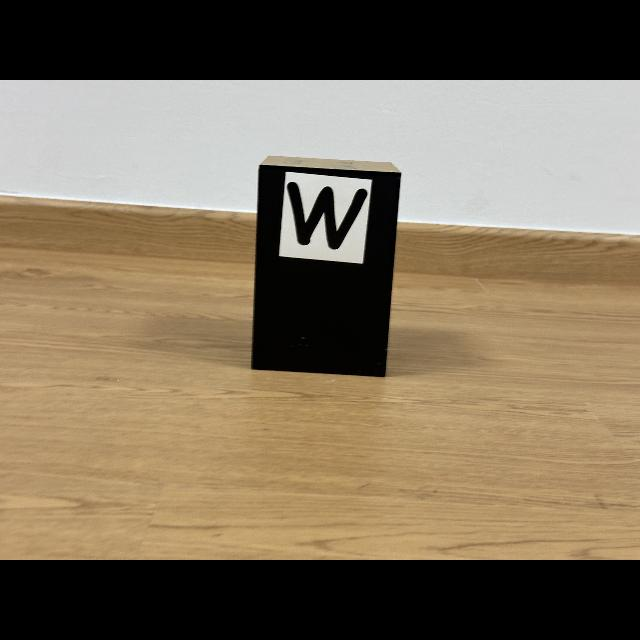W: (288, 182, 368, 249)
